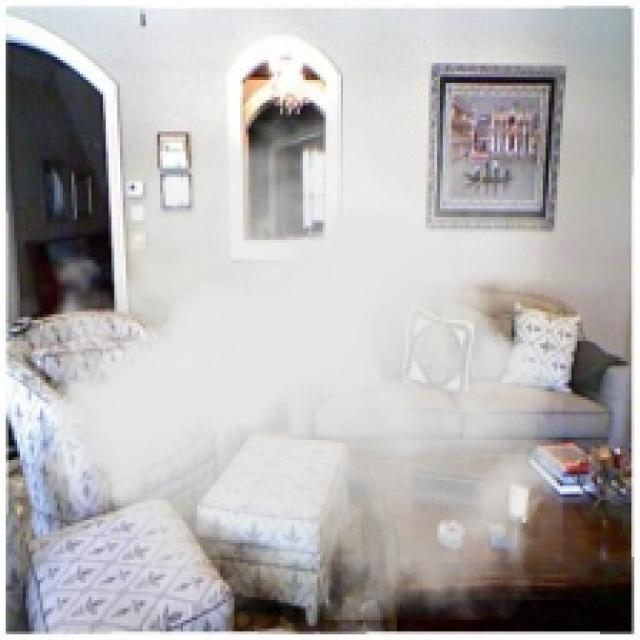Smoke: (17, 63, 563, 620)
